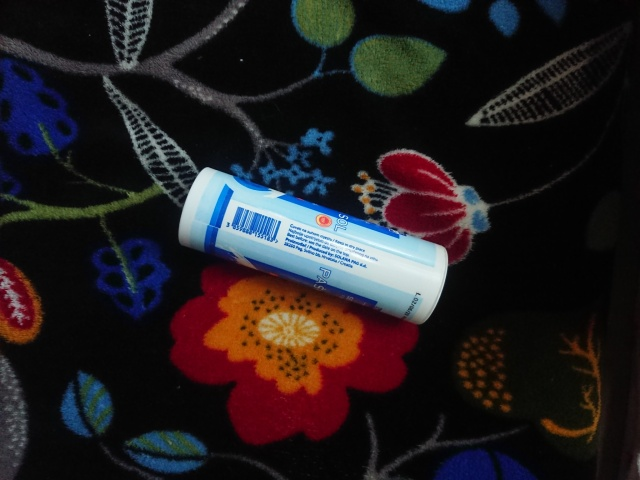Solana Pag Fine Sea Salt 250g: (174, 163, 451, 328)
